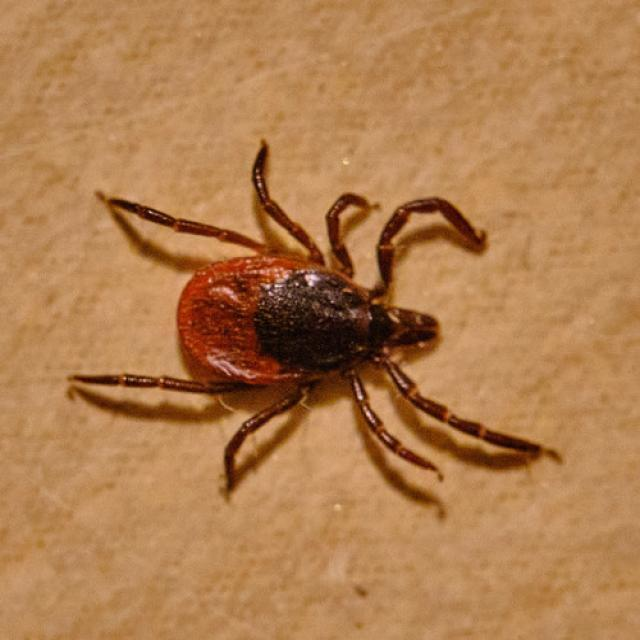Ixodes Ricinus-F: (68, 144, 562, 500)
